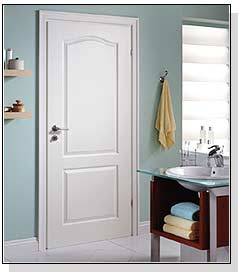door: (42, 17, 138, 240)
